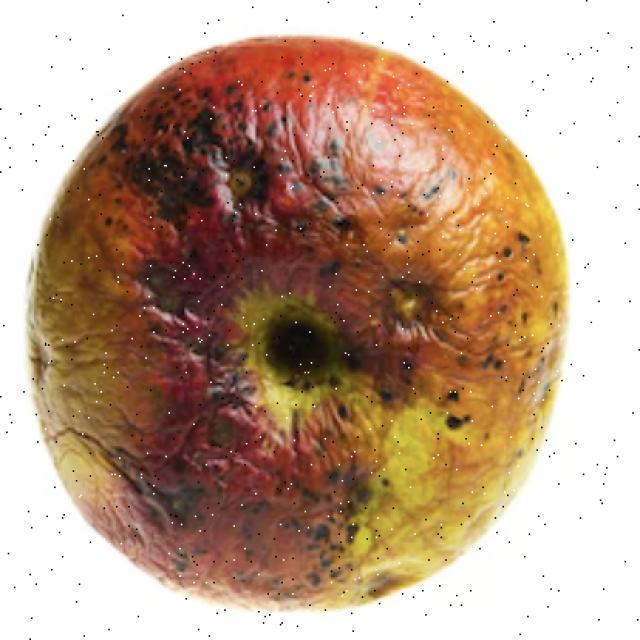Rotten: (46, 47, 532, 593)
